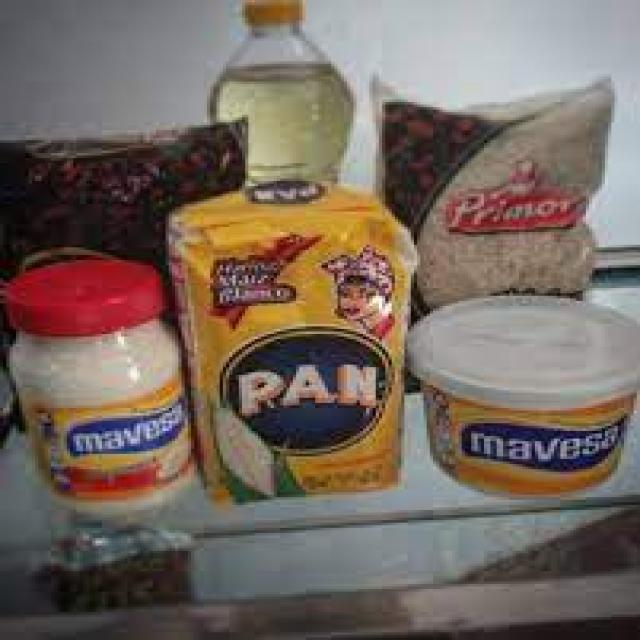Margarina: (1, 254, 198, 517), (408, 293, 640, 496)
Pampero: (168, 182, 409, 506)
